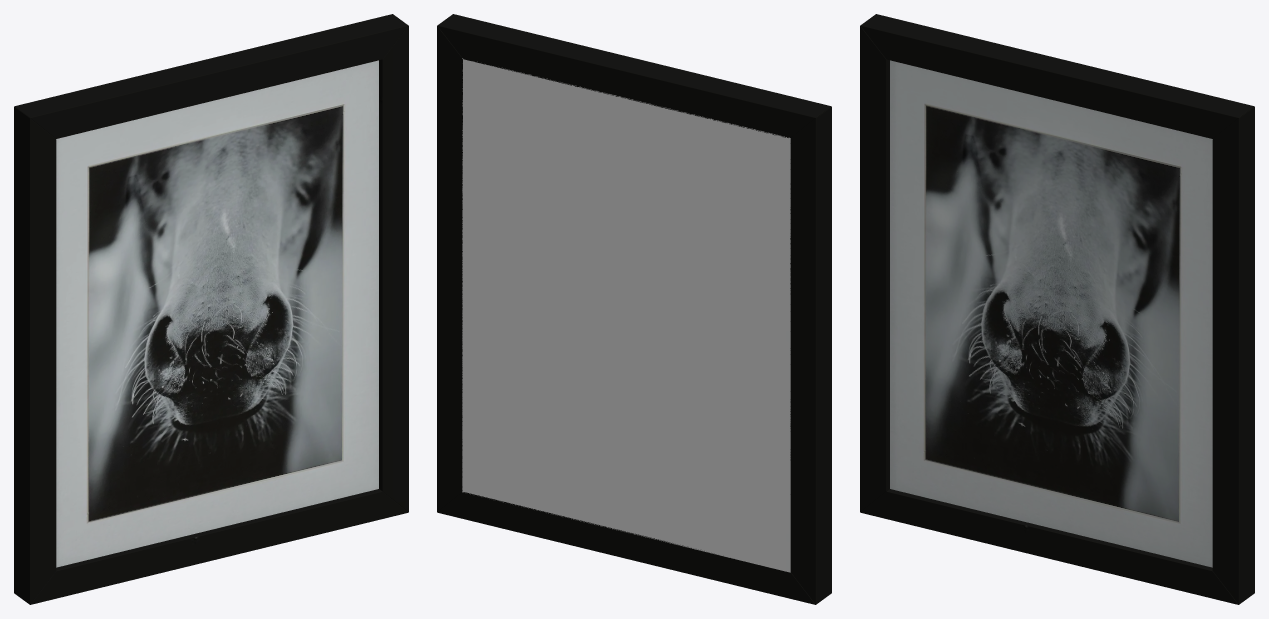
The model's file is abo-B075YLQTNP.glb.
3 views of the same model, side by side, from view 1: azimuth 30°, elevation 25°; view 2: azimuth 150°, elevation 25°; view 3: azimuth 330°, elevation 25° (orthographic).
Bounding box in the file's own units: 0.329 × 0.404 × 0.024.
Materials: 1 (1 with a texture image).
